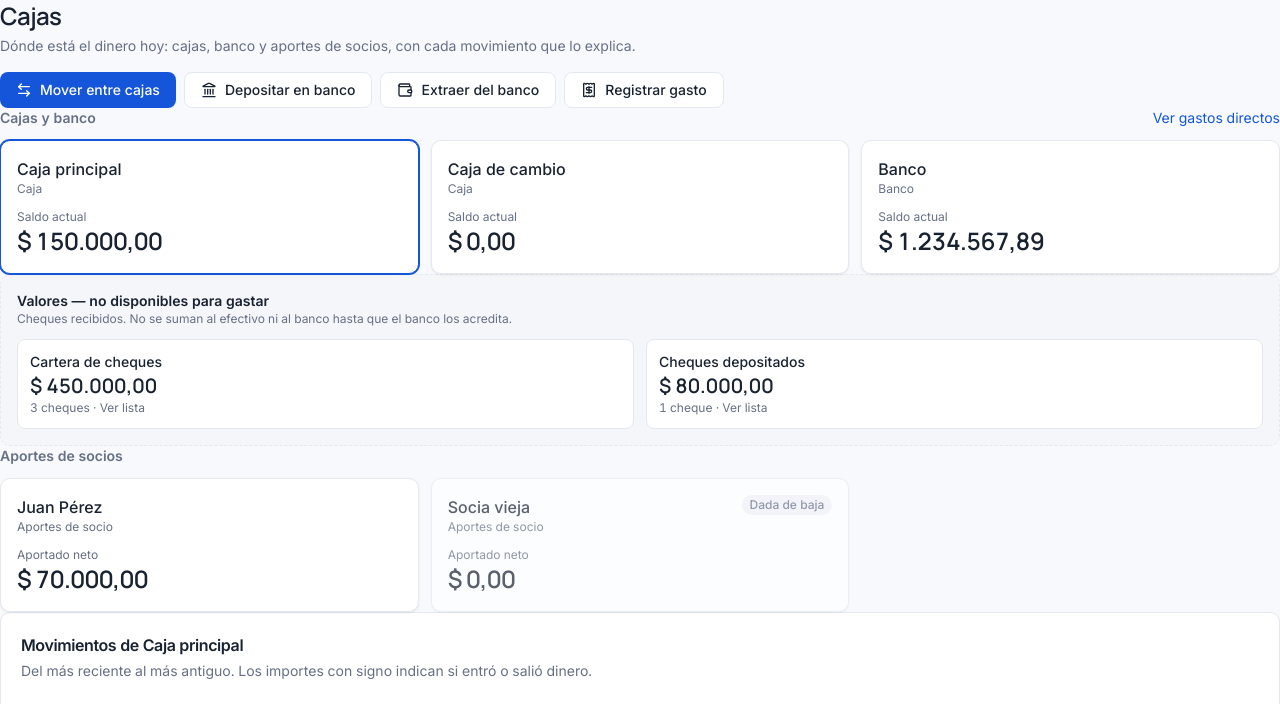
CashBoard › blocks a second submit while waiting for the answer
Click the button "Mover entre cajas".
click(88, 90)  # box left=0, top=72, right=176, bottom=108
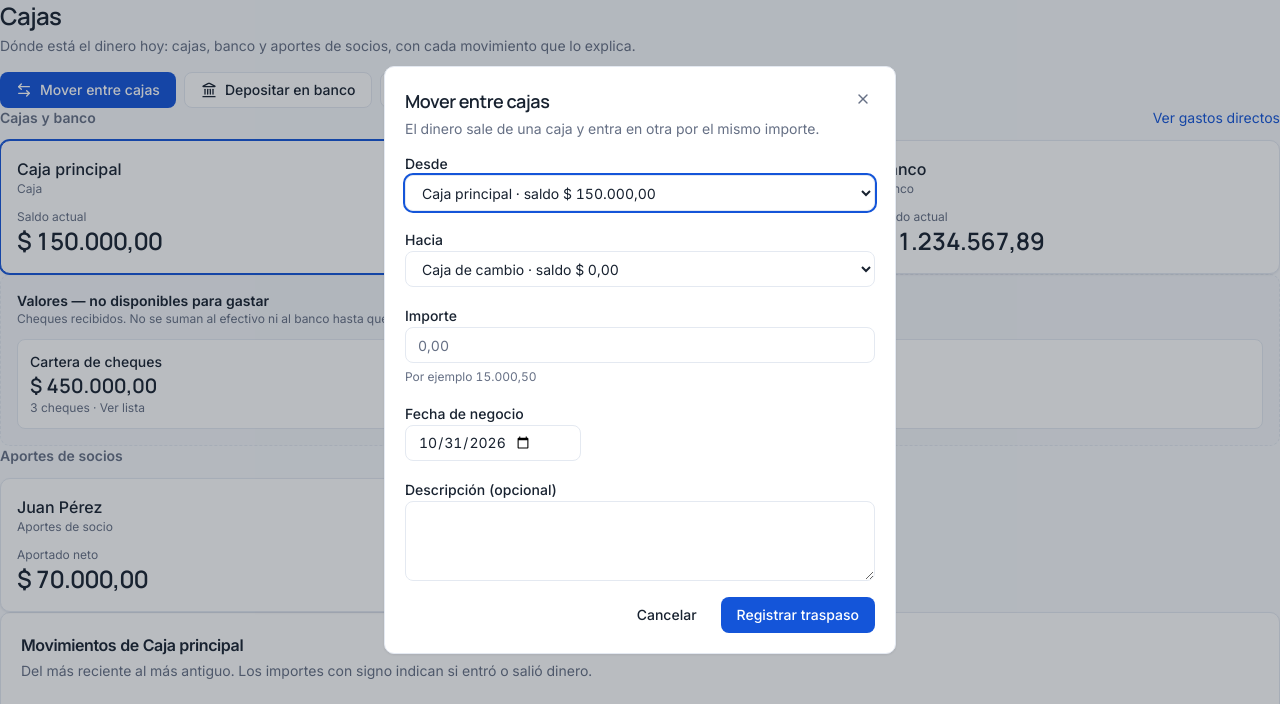
Type "10" into the field labelled "Importe".
click(640, 345); type("10")  # box left=405, top=327, right=875, bottom=363
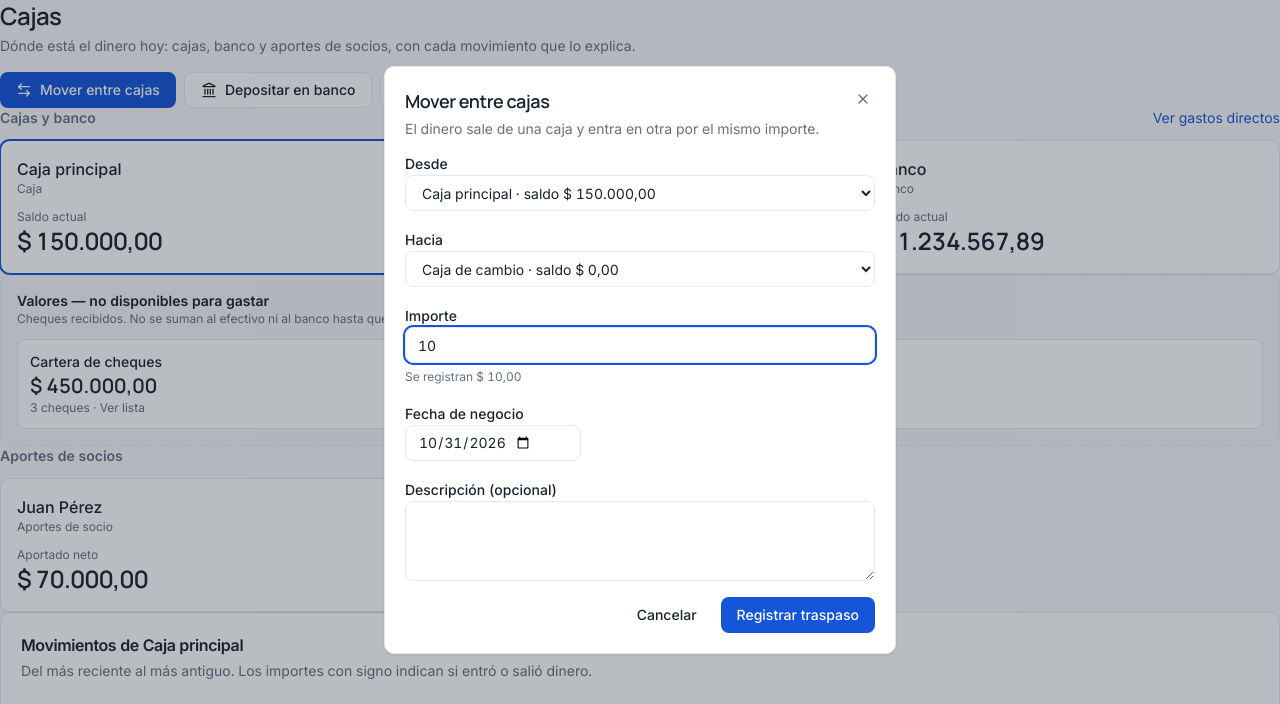
Click the button "Registrar traspaso".
click(798, 615)  # box left=721, top=597, right=875, bottom=633
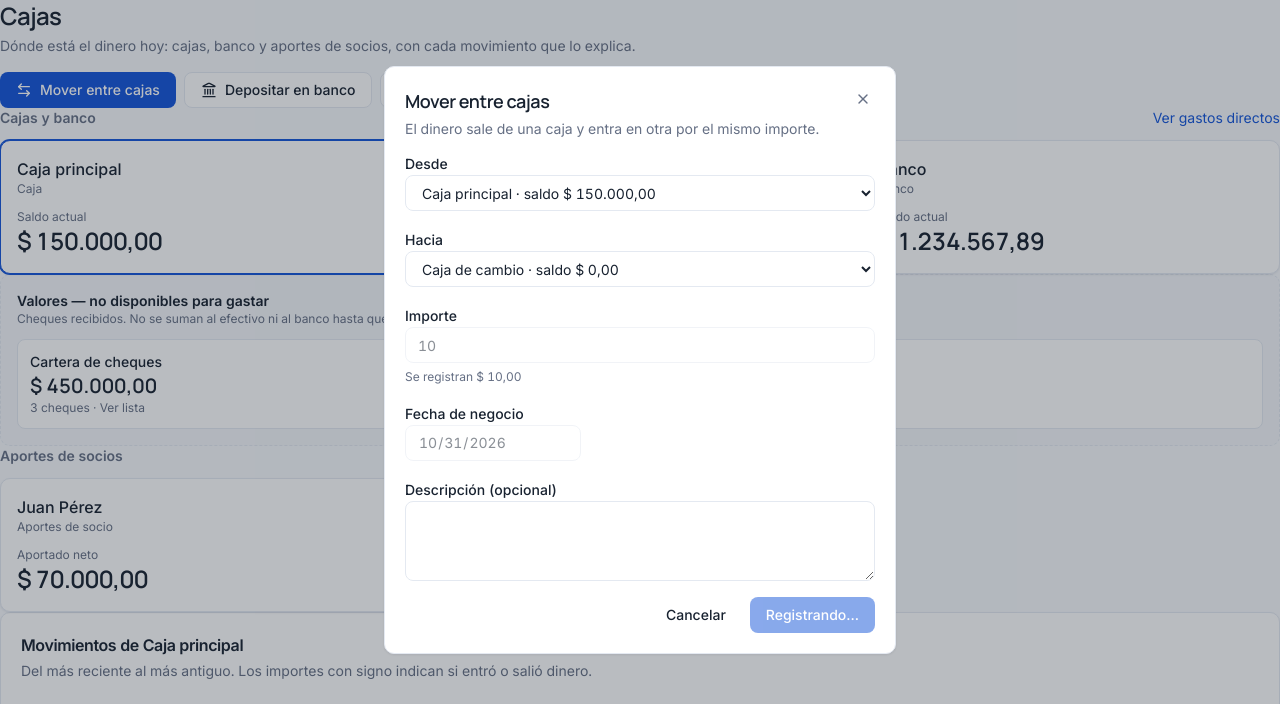
Expected: the button "Registrando…" is disabled
Click the button "Registrando…".
click(812, 615)  # box left=750, top=597, right=875, bottom=633
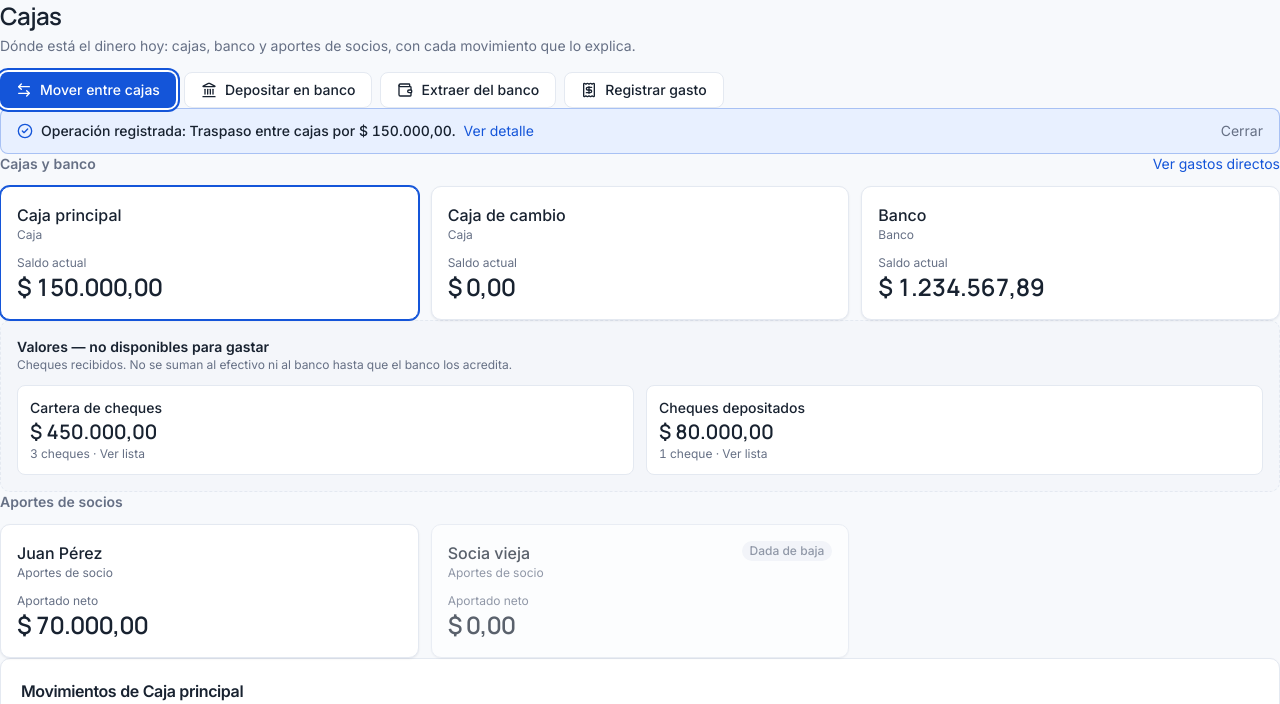
Expected: the message is shown, left=0, top=108, right=1279, bottom=154
